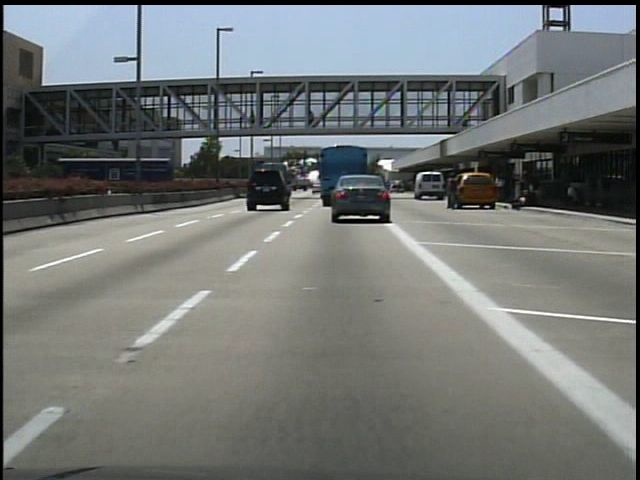person: (445, 175, 464, 216), (244, 106, 259, 130), (306, 109, 319, 136)
